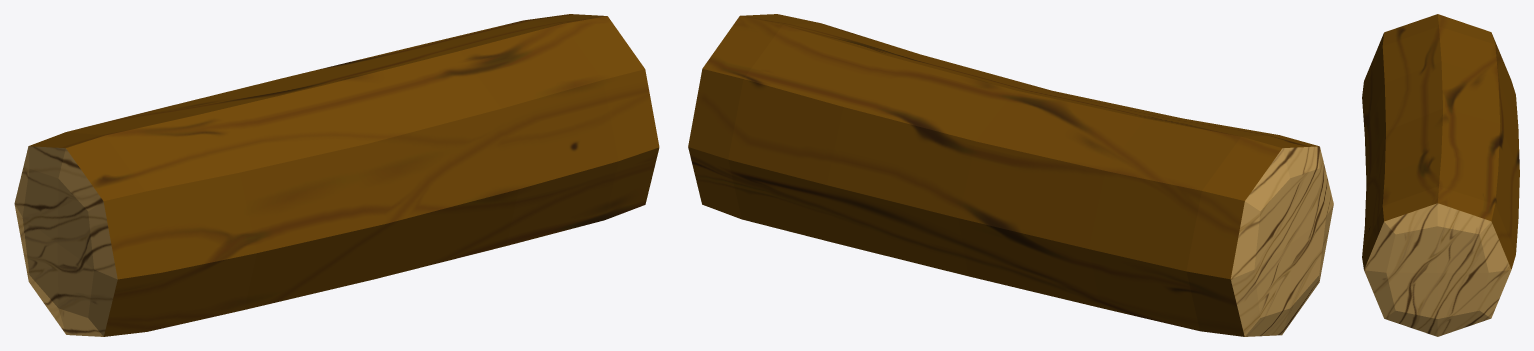
Rendered from coisa para a fogueira.fbx_tora_1.fbx.
3 views of the same model, side by side, from view 1: azimuth 30°, elevation 25°; view 2: azimuth 150°, elevation 25°; view 3: azimuth 270°, elevation 25° (orthographic). The views are drawn at different scales.
Parts seen in each view (by area): view 1: tora 01; view 2: tora 01; view 3: tora 01.
Part boxes in pixels (x1=…): tora 01: x1=14, y1=14, x2=659, y2=336; tora 01: x1=688, y1=14, x2=1333, y2=336; tora 01: x1=1362, y1=14, x2=1519, y2=336.
Size of the model in its own units: 549 by 185 by 188.
